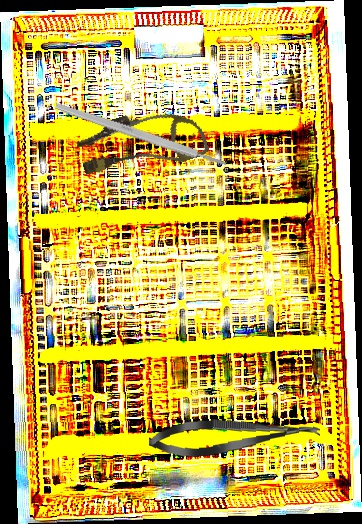Cannula: (72, 95, 211, 190)
Micro Scissor: (147, 412, 322, 460)
Scalpel Handle: (54, 100, 228, 170)
